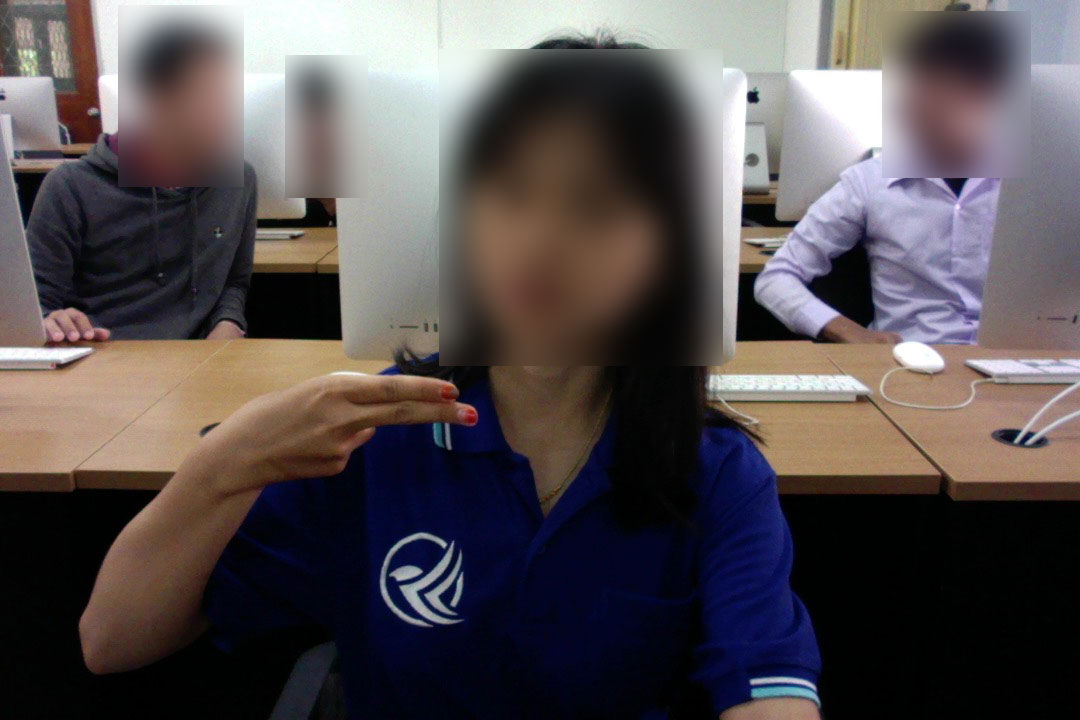hor: (211, 363, 481, 489)
